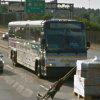Bus: (5, 12, 84, 80)
